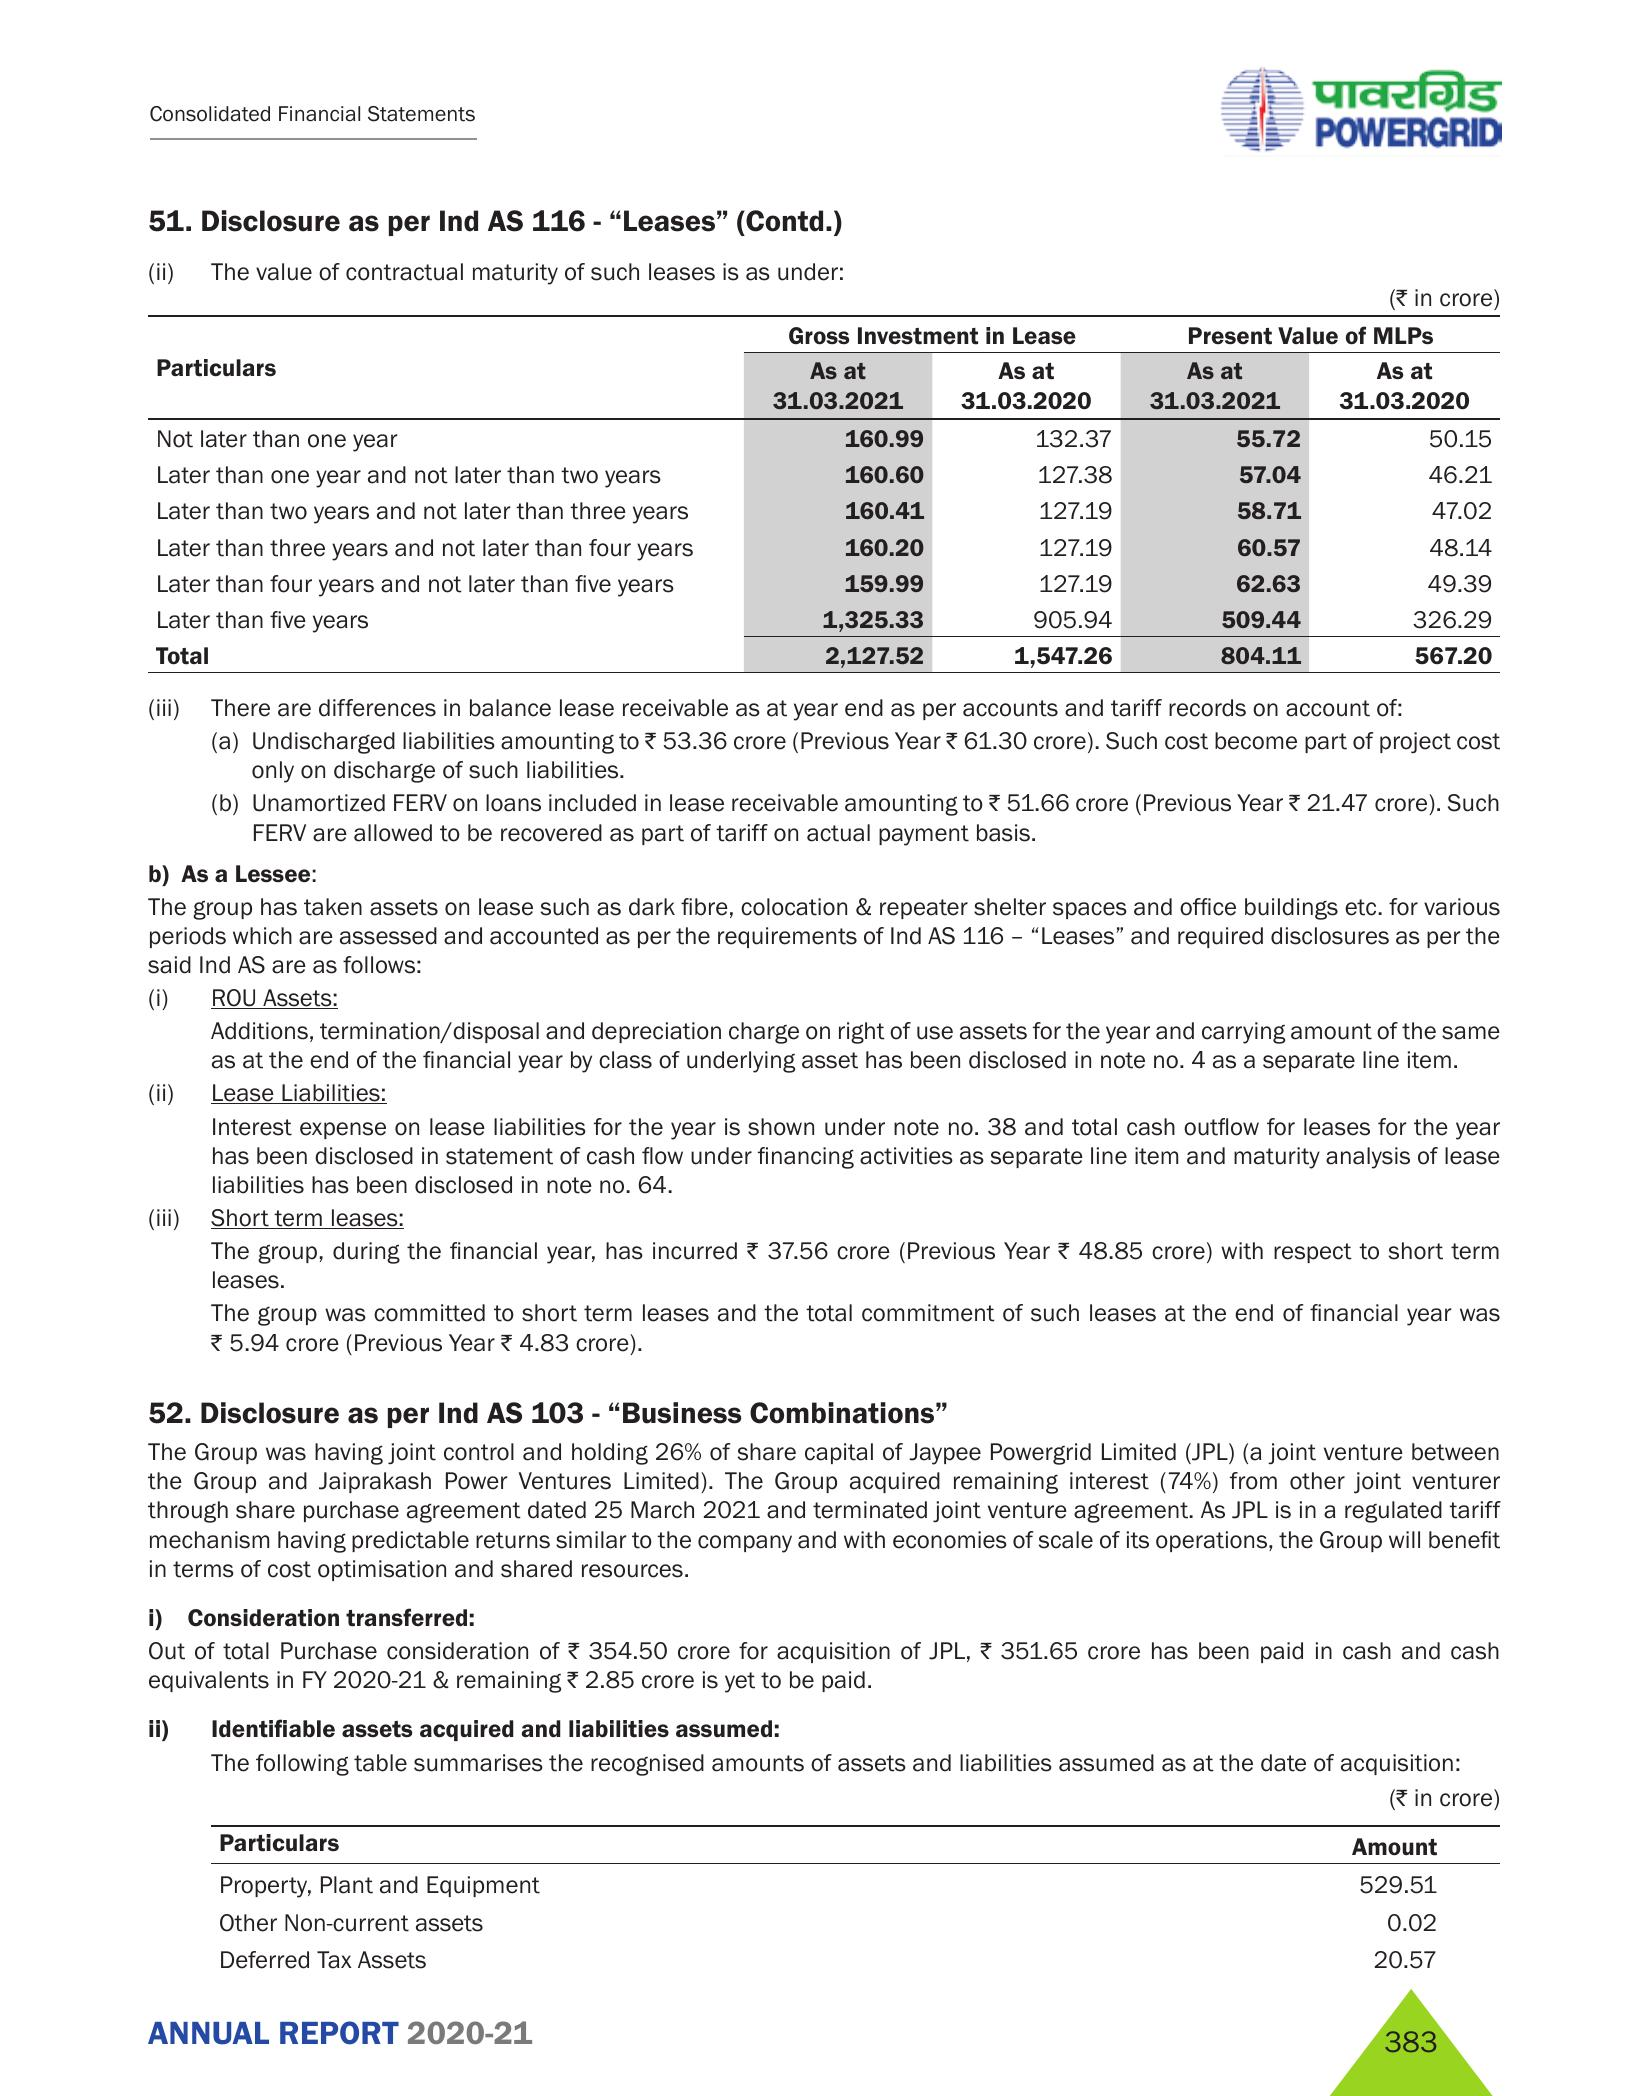Footer: (0, 1982, 1650, 2096)
Header: (0, 0, 1650, 180)
Table: (65, 298, 1536, 679), (175, 1798, 1539, 1982)
